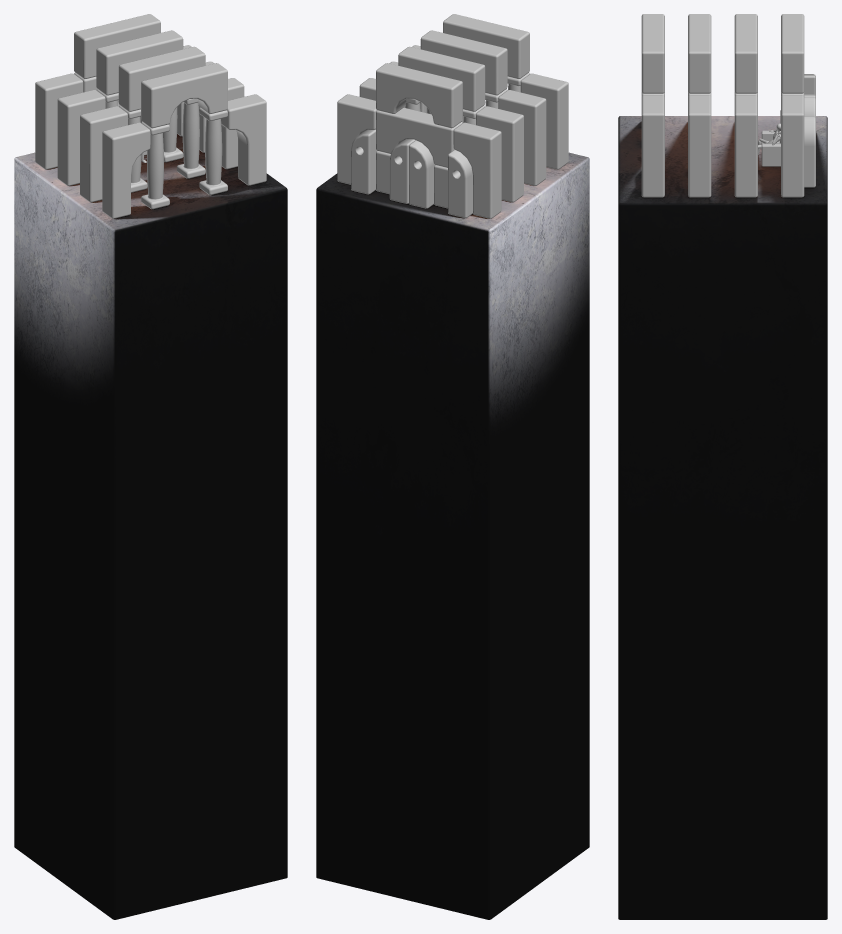
3 renders of one model, left to right at view 1: azimuth 30°, elevation 25°; view 2: azimuth 150°, elevation 25°; view 3: azimuth 270°, elevation 25°, orthographic. The views are drawn at different scales.
Visible parts, largest first — view 1: platform.001, armature.001_wood_0; view 2: platform.001, armature.001_wood_0; view 3: platform.001, armature.001_wood_0.
Boxes of the visible parts, box(x1,y1,x2,y2) form: platform.001: box(14, 134, 287, 919); armature.001_wood_0: box(35, 14, 266, 218); platform.001: box(316, 152, 589, 919); armature.001_wood_0: box(337, 14, 568, 218); platform.001: box(618, 116, 827, 919); armature.001_wood_0: box(641, 14, 815, 197).
Size of the model in its own units: 7.53 by 33.46 by 7.53.
